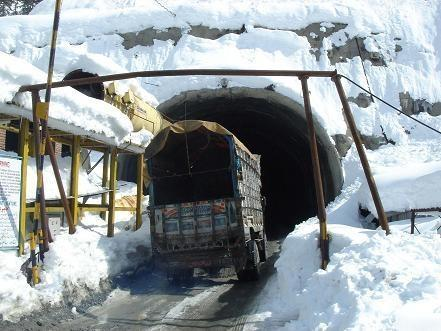truck: (140, 120, 272, 292)
